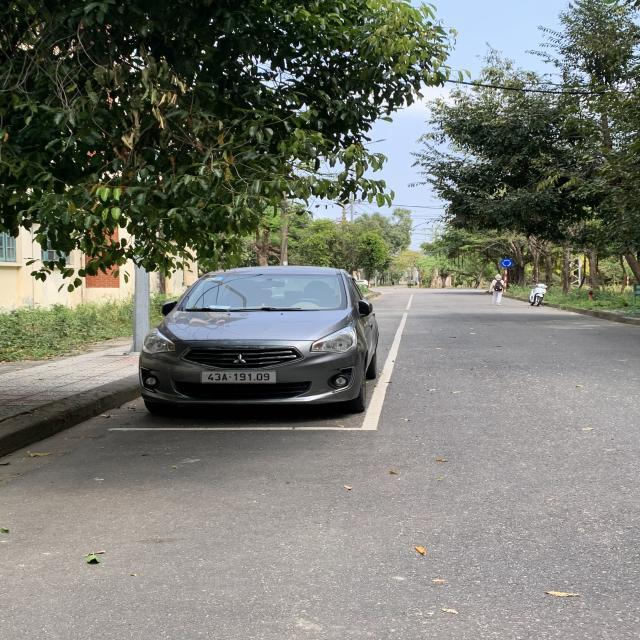car: (143, 263, 381, 426)
plate: (194, 364, 281, 390)
